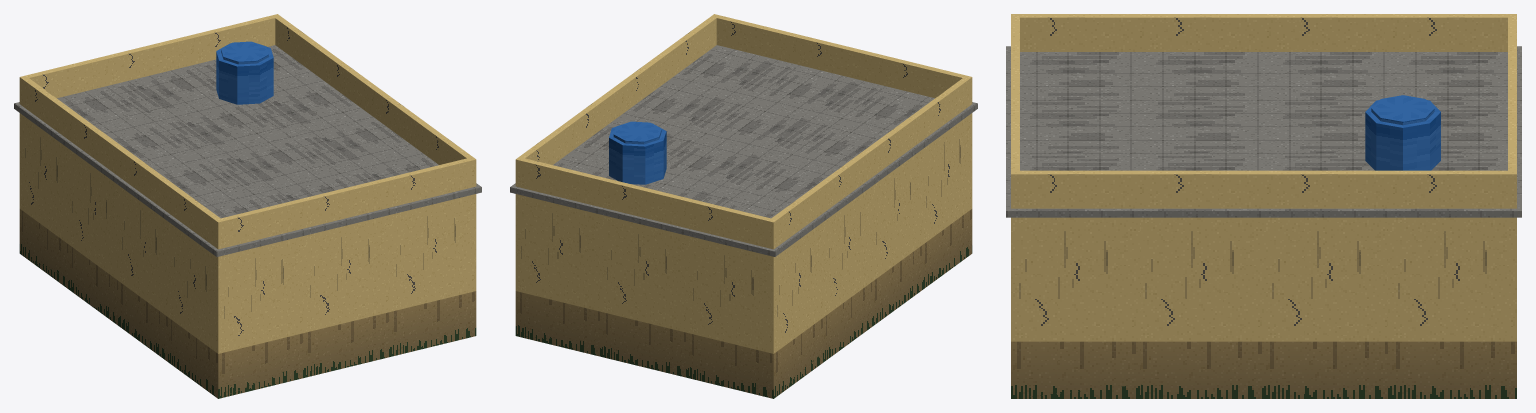
File: bloco_1_laje_amarela.glb
The picture shows the model from 3 angles, left to right: view 1: azimuth 30°, elevation 25°; view 2: azimuth 150°, elevation 25°; view 3: azimuth 270°, elevation 25°; orthographic projection. The views are drawn at different scales.
Visible parts, largest first — view 1: paredes-col, telhado; view 2: paredes-col, telhado; view 3: paredes-col, telhado.
Part boxes in pixels (x1,y1,x2,y2): paredes-col: (19, 14, 476, 398); telhado: (14, 41, 481, 256); paredes-col: (515, 14, 972, 398); telhado: (510, 45, 977, 256); paredes-col: (1011, 14, 1516, 398); telhado: (1006, 46, 1521, 217).
Bounding box in the file's own units: 6.16 × 4.23 × 8.16.
4 materials, 4 textured.
